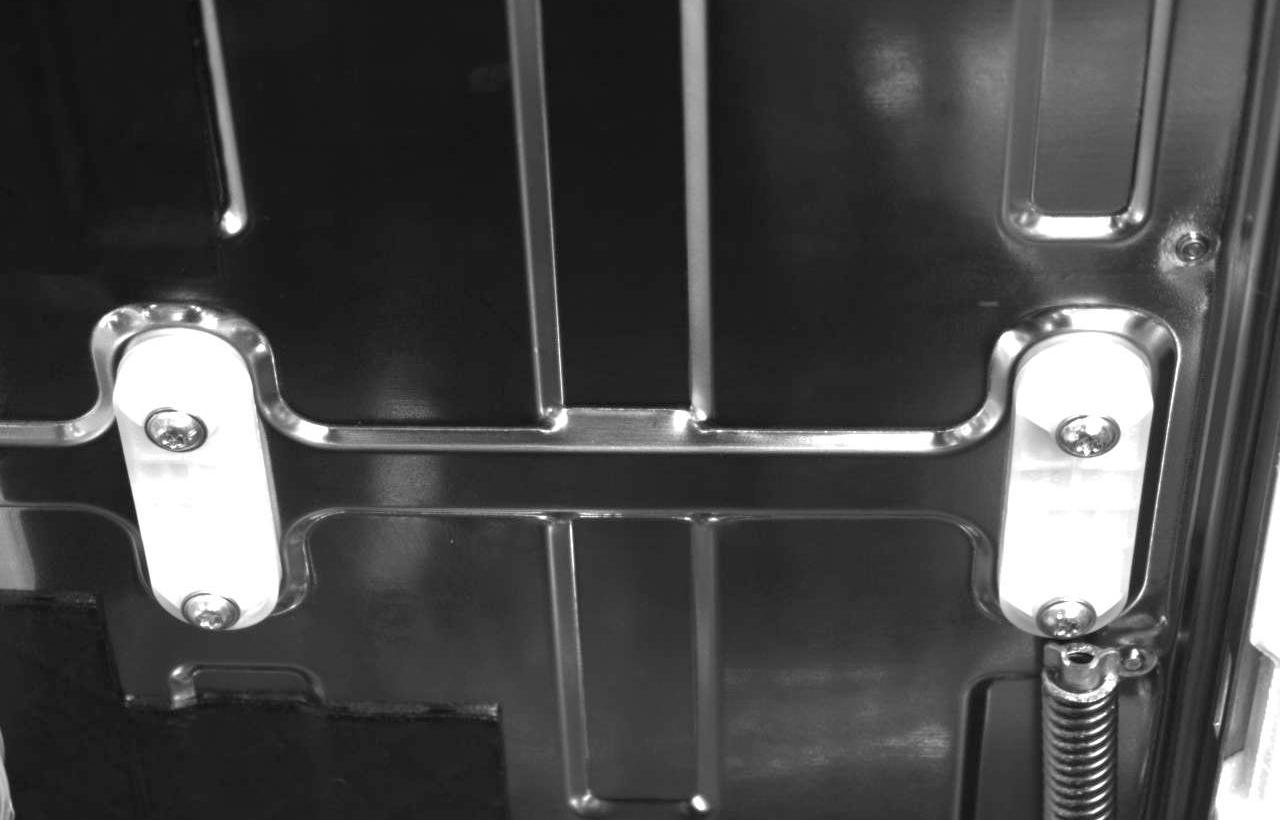vida-ok: (131, 399, 217, 477), (1046, 404, 1134, 477), (168, 579, 246, 643), (1028, 586, 1104, 645)
